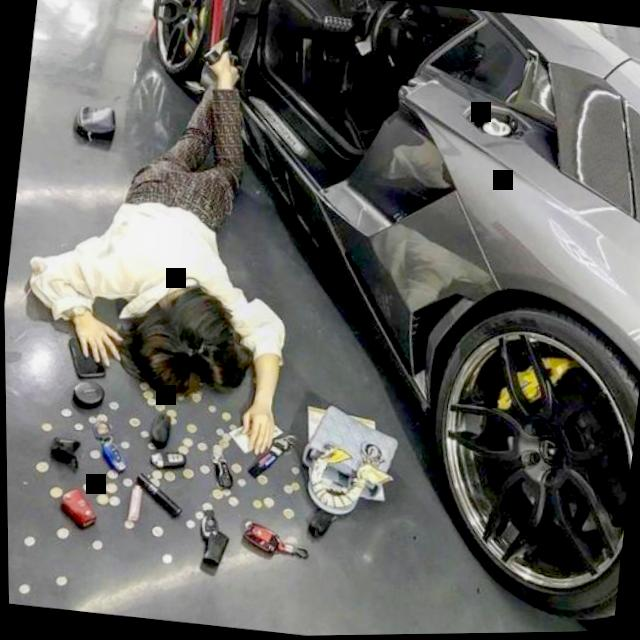Fall-Detected: (0, 16, 343, 454)
